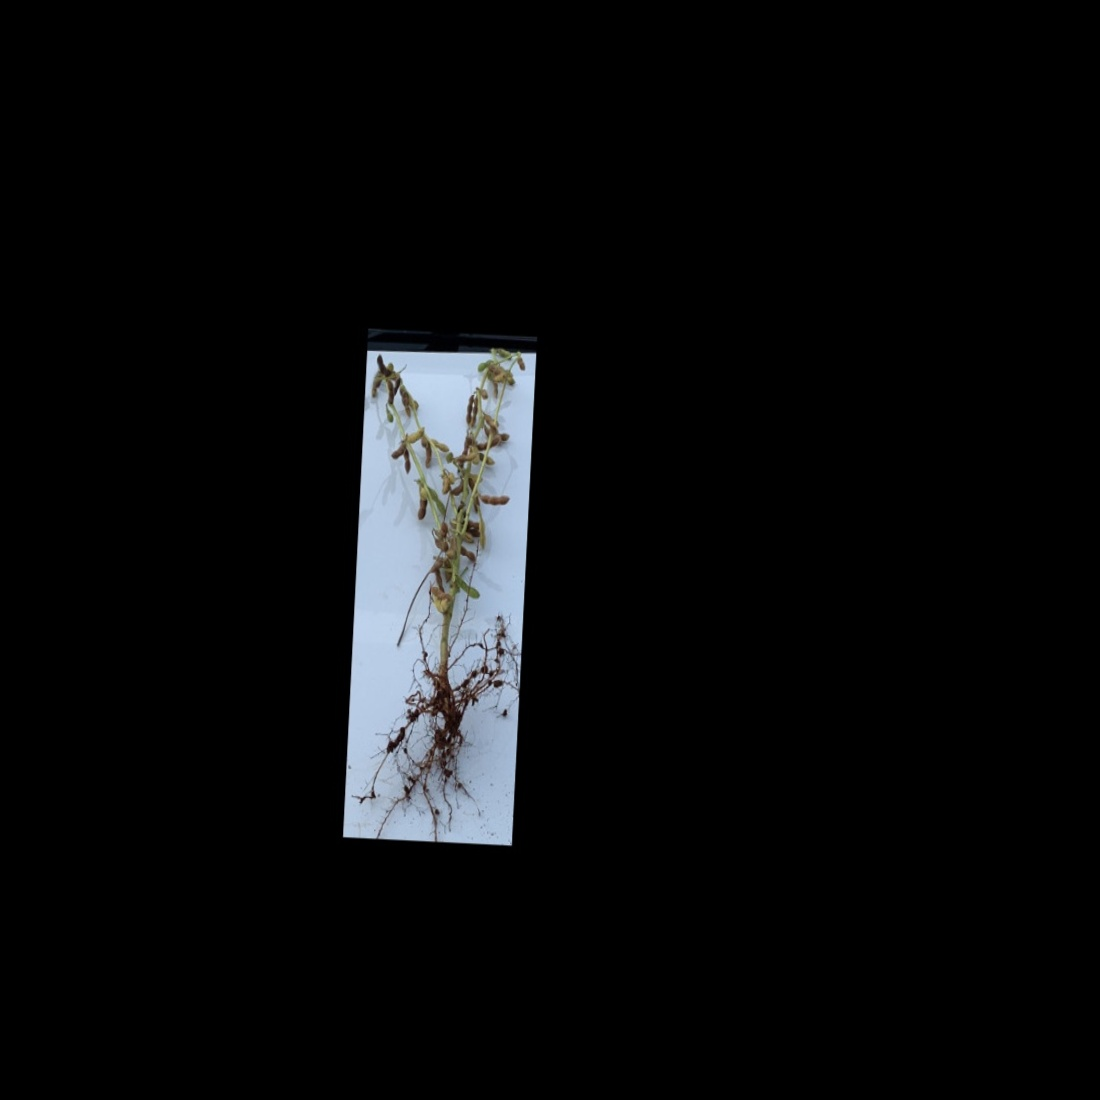pod: (426, 486, 452, 517), (453, 573, 483, 600), (474, 490, 512, 509), (387, 438, 410, 460), (457, 544, 479, 567), (463, 391, 476, 427), (493, 345, 516, 363), (428, 437, 451, 454)
soy: (347, 334, 532, 835)
